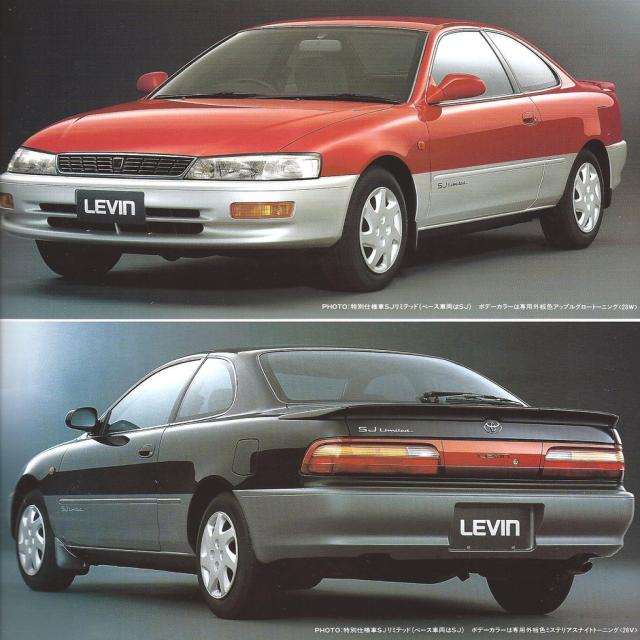car: (6, 342, 637, 621), (0, 9, 624, 286)
